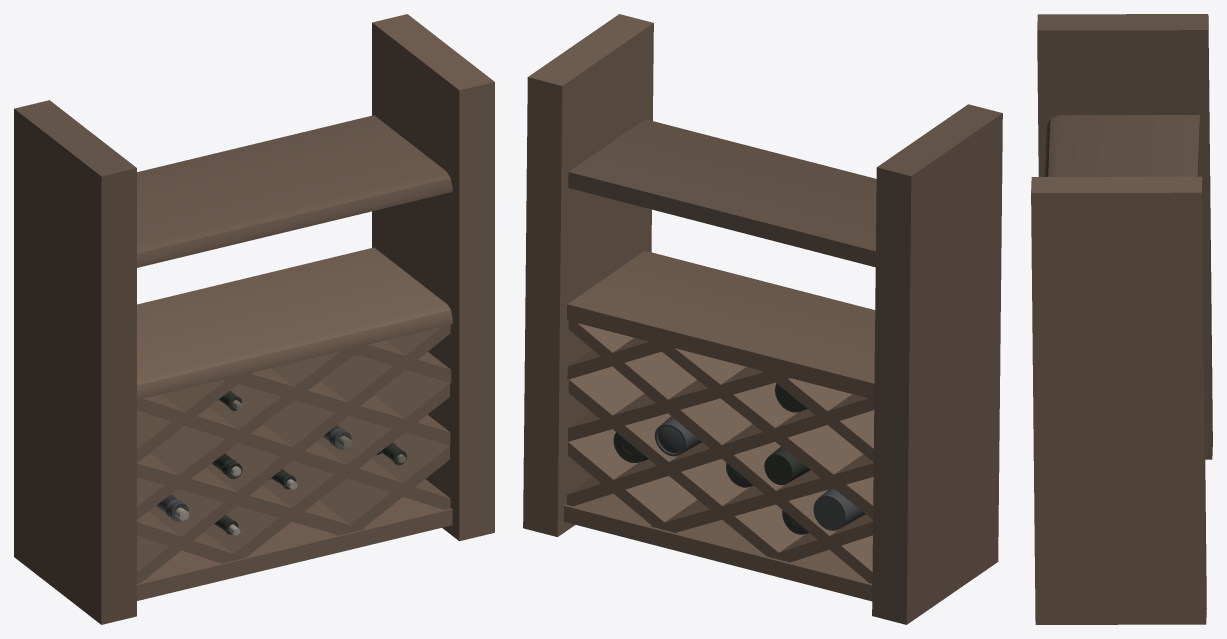
The model's file is Piccolo Bancone.fbx.
The picture shows the model from 3 angles, left to right: view 1: azimuth 30°, elevation 25°; view 2: azimuth 150°, elevation 25°; view 3: azimuth 270°, elevation 25°; orthographic projection. The views are drawn at different scales.
Parts seen in each view (by area): view 1: Cylinder.165; view 2: Cylinder.165; view 3: Cylinder.165.
Part boxes in pixels (x1,y1,x2,y2): Cylinder.165: (14,14,494,624); Cylinder.165: (523,14,1002,624); Cylinder.165: (1031,14,1212,624).
Bounding box in the file's own units: 177 × 194 × 74.15.
